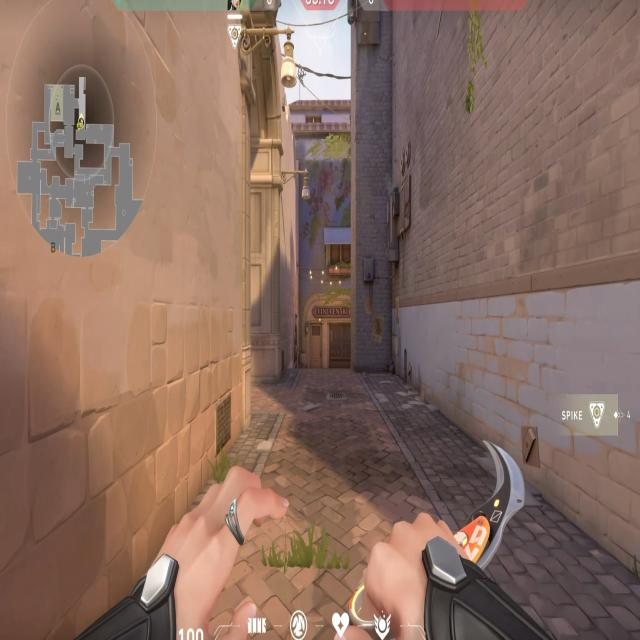Wine: (309, 301, 382, 371)
